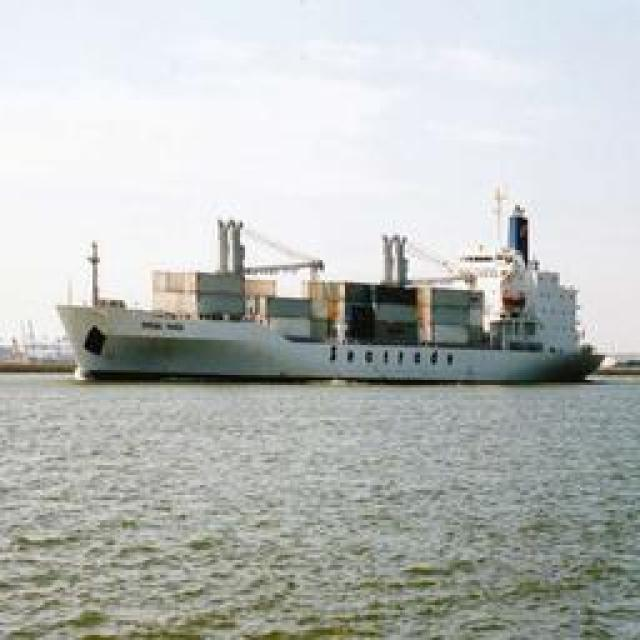Ship: (45, 215, 610, 388)
